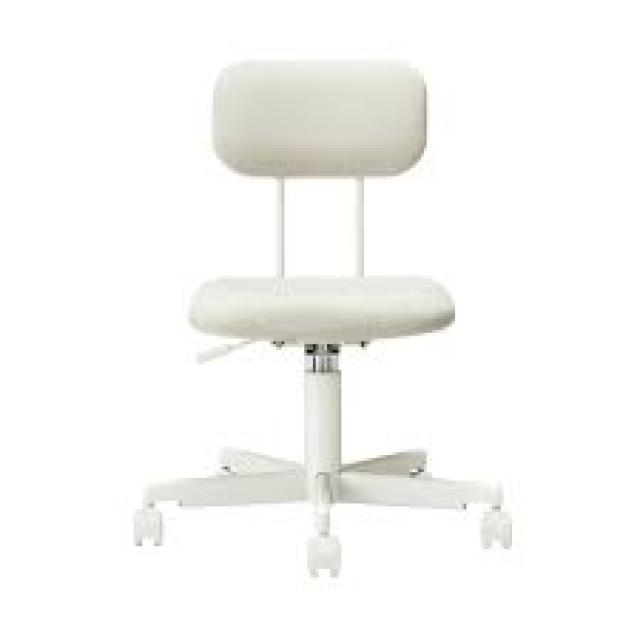chair: (124, 52, 559, 594)
